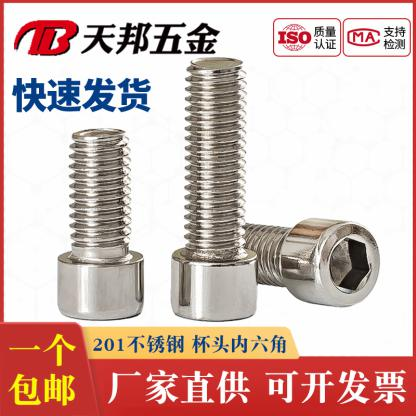FOD: (168, 58, 259, 321), (53, 126, 149, 322), (235, 216, 380, 309)
